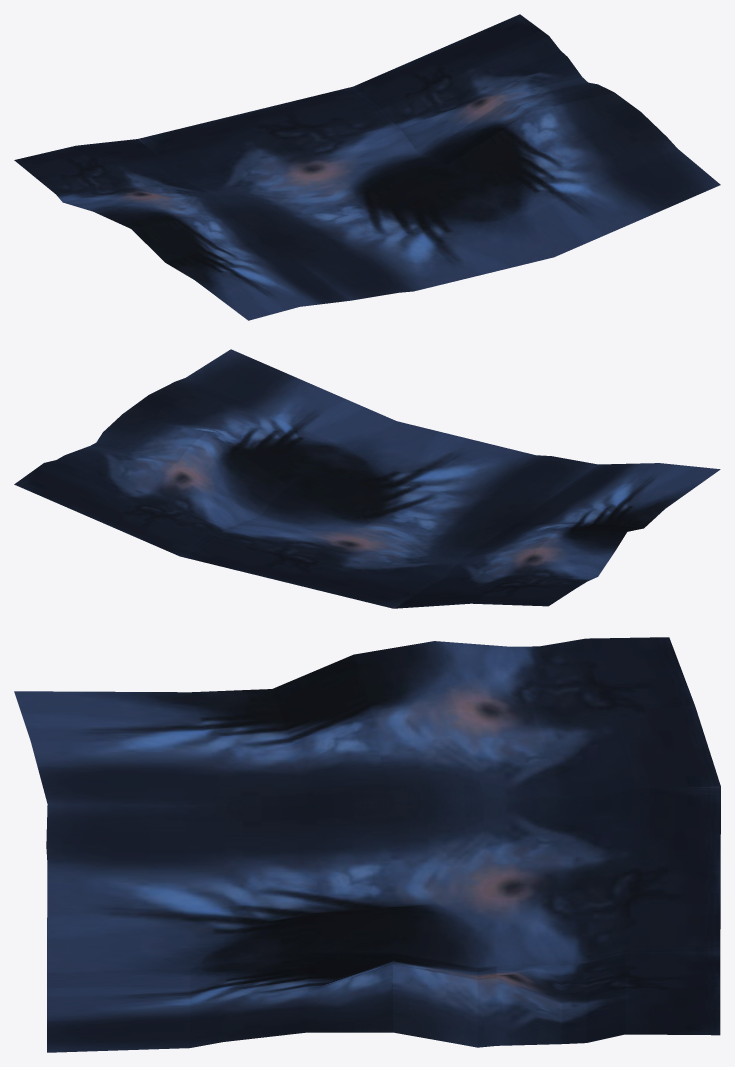
The model's file is ts_shex002_dm.FBX.
3 renders of one model, top to bottom at view 1: azimuth 30°, elevation 25°; view 2: azimuth 150°, elevation 25°; view 3: azimuth 270°, elevation 25°, orthographic. The views are drawn at different scales.
Visible parts, largest first — view 1: ts_shex002_dm; view 2: ts_shex002_dm; view 3: ts_shex002_dm.
Boxes of the visible parts, x1,y1,x2,y2 form: ts_shex002_dm: (14, 14, 720, 320); ts_shex002_dm: (14, 349, 720, 608); ts_shex002_dm: (14, 637, 720, 1052).
Bounding box in the file's own units: 70.77 × 6.08 × 51.59.
